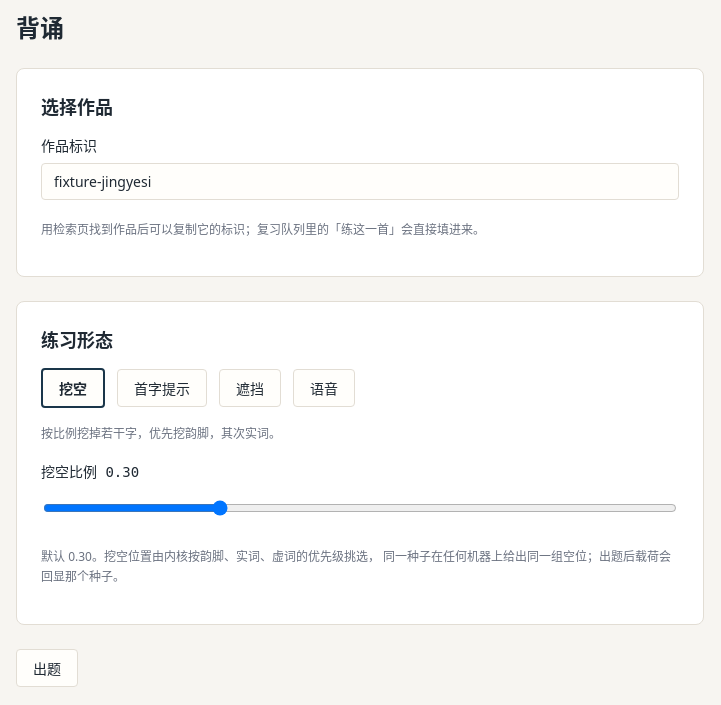
Test case: 整局流程 › 出题后显示提示文本与空位数，且屏上没有参考诗文
Click the button with test id "start-session" at (47, 668), box [16,649,78,687]
(page scrolled)
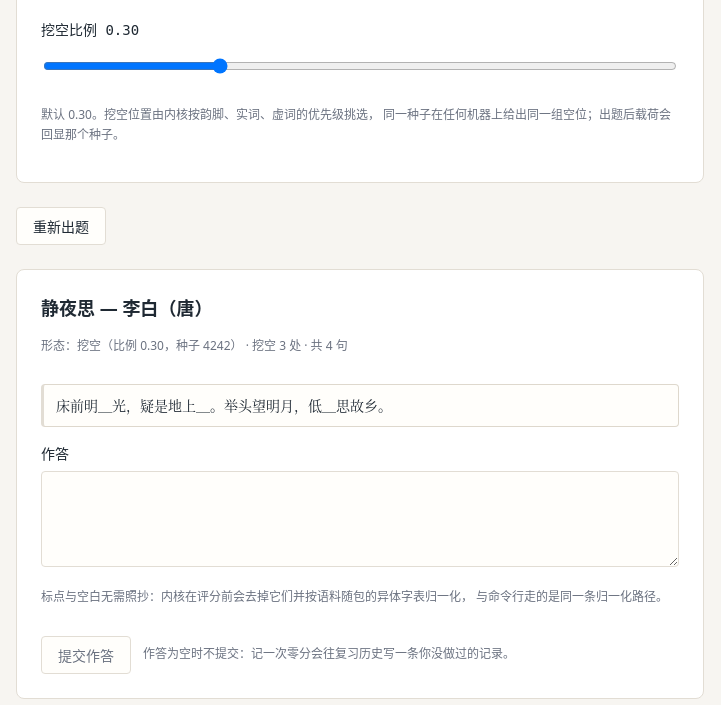
Result: the text "床前明＿光，疑是地上＿。举头望明月，低＿思故乡。" is shown at [41,384,679,427]
Result: the text with test id "session-prompt" reads "床前明＿光，疑是地上＿。举头望明月，低＿思故乡。" at [56,395,392,415]
Result: the text with test id "session-mode" shows "挖空 3 处" at [41,337,348,354]
